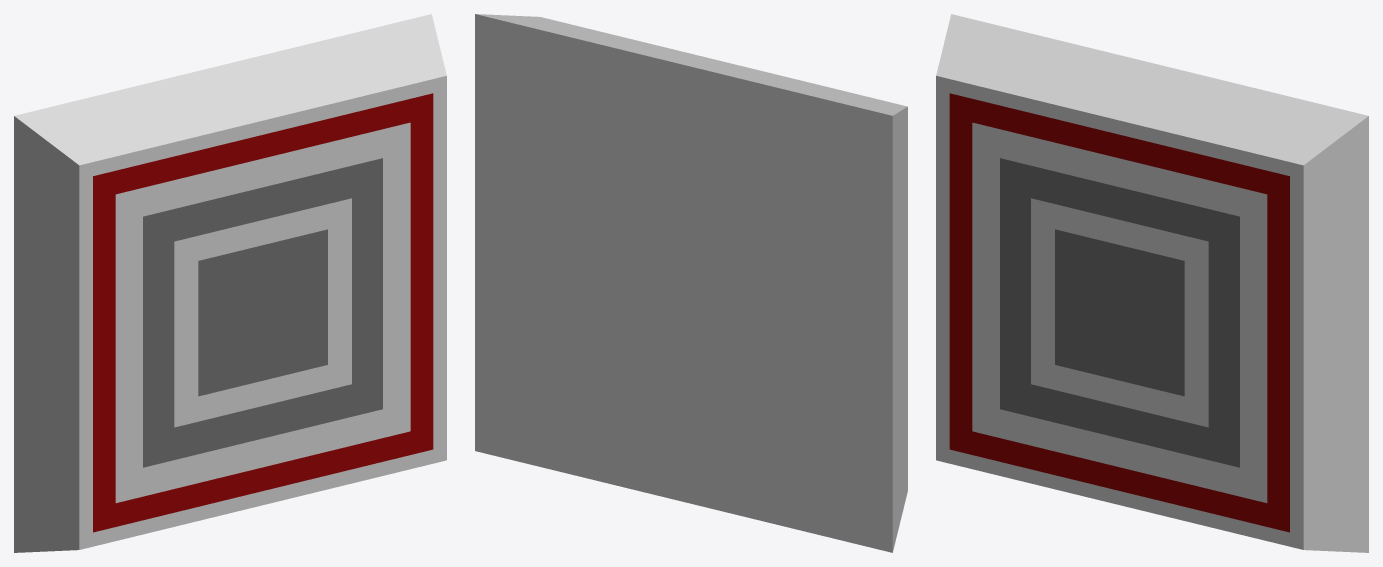
The model's file is SciFi_Modular_Semiotic_Storage_01.fbx.
The picture shows the model from 3 angles, left to right: view 1: azimuth 30°, elevation 25°; view 2: azimuth 150°, elevation 25°; view 3: azimuth 330°, elevation 25°; orthographic projection.
Visible parts, largest first — view 1: SciFi_Modular_Semiotic_Storage_01; view 2: SciFi_Modular_Semiotic_Storage_01; view 3: SciFi_Modular_Semiotic_Storage_01.
Part boxes in pixels (x1,y1,x2,y2): SciFi_Modular_Semiotic_Storage_01: (14, 14, 446, 552); SciFi_Modular_Semiotic_Storage_01: (475, 14, 907, 552); SciFi_Modular_Semiotic_Storage_01: (936, 14, 1368, 552).
Bounding box in the file's own units: 536 × 536 × 89.36.
